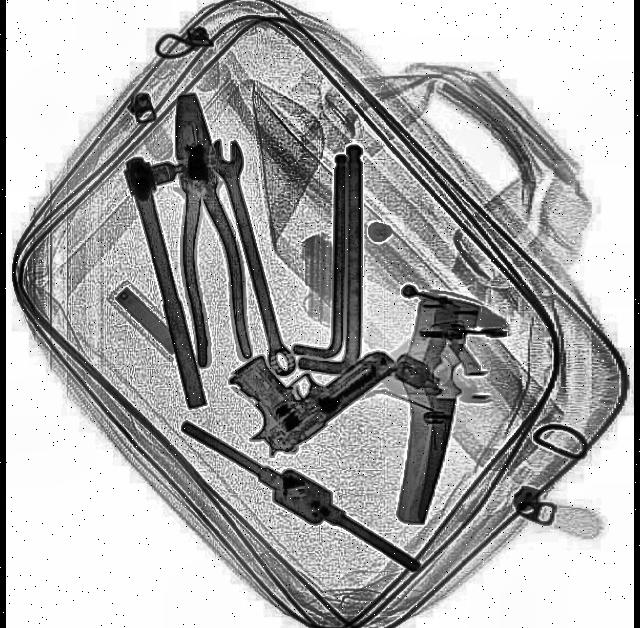Gun: (219, 284, 403, 470)
Pliers: (162, 85, 255, 367)
Wrench: (208, 131, 300, 379)
